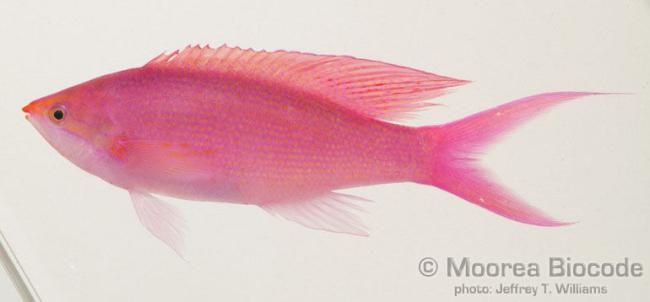fish: (20, 44, 638, 260)
